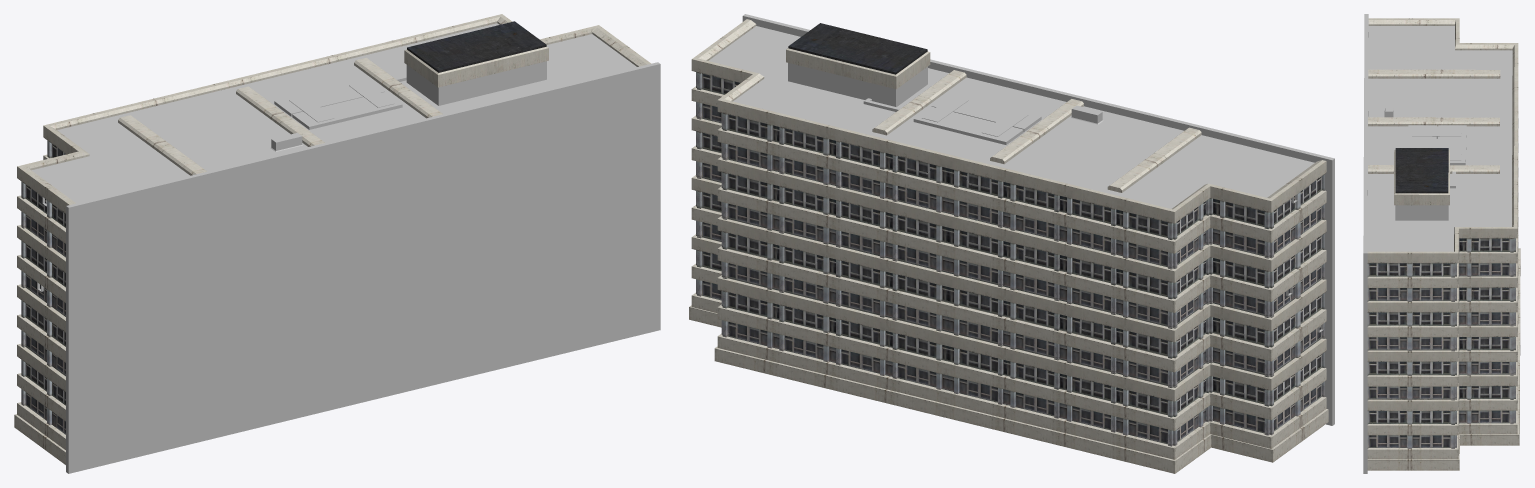
File: u2SEBuild6.gltf
3 renders of one model, left to right at view 1: azimuth 30°, elevation 25°; view 2: azimuth 150°, elevation 25°; view 3: azimuth 270°, elevation 25°, orthographic. The views are drawn at different scales.
Visible parts, largest first — view 1: u2SEBuild6; view 2: u2SEBuild6; view 3: u2SEBuild6.
Part boxes in pixels (x1,y1,x2,y2): u2SEBuild6: (14,14,660,473); u2SEBuild6: (689,14,1334,473); u2SEBuild6: (1363,14,1520,473).
Bounding box in the file's own units: 24.03 × 11.44 × 6.67.
